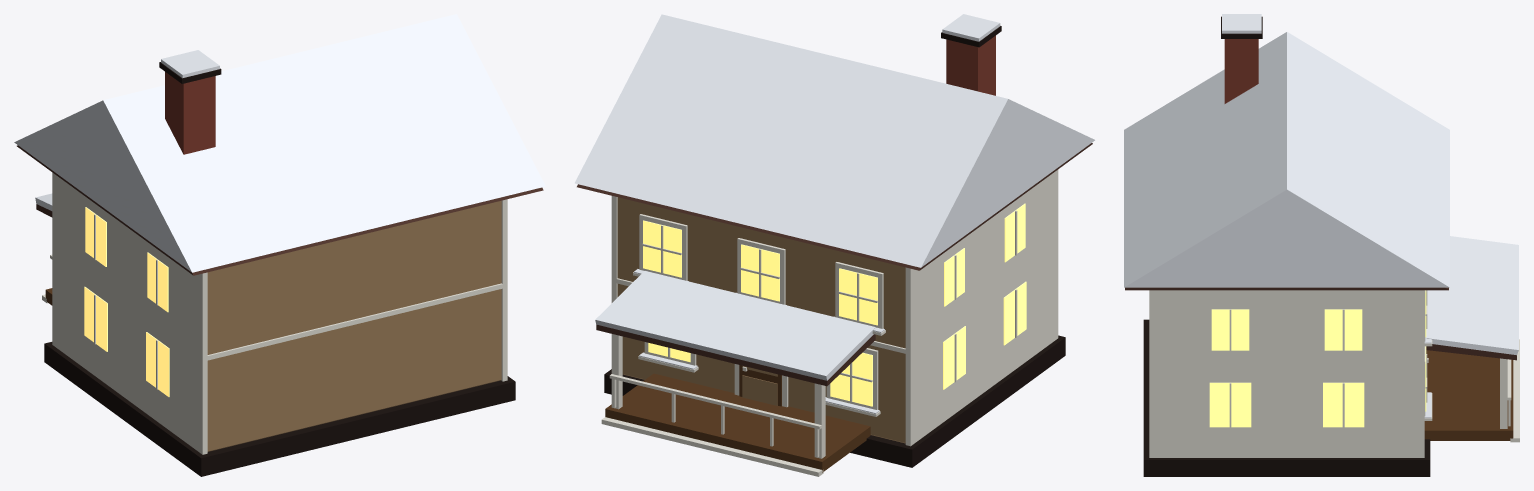
Rendered from HOUSE_farmhouse.glb.
3 views of the same model, side by side, from view 1: azimuth 30°, elevation 25°; view 2: azimuth 150°, elevation 25°; view 3: azimuth 270°, elevation 25° (orthographic). The views are drawn at different scales.
Parts seen in each view (by area): view 1: House; view 2: House; view 3: House.
Part boxes in pixels (bbox=[...]): House: bbox=[14, 14, 545, 476]; House: bbox=[575, 14, 1094, 476]; House: bbox=[1124, 14, 1519, 476].
Bounding box in the file's own units: 9.9 × 9.76 × 10.5.
